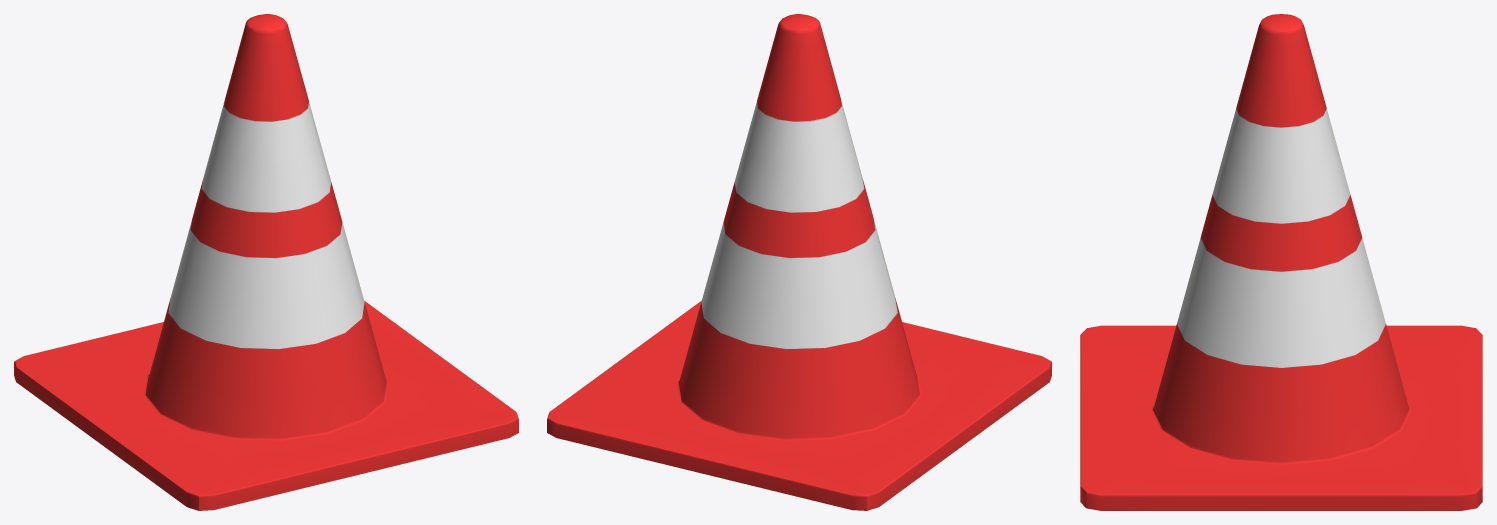
The picture shows the model from 3 angles, left to right: view 1: azimuth 30°, elevation 25°; view 2: azimuth 150°, elevation 25°; view 3: azimuth 270°, elevation 25°; orthographic projection. The views are drawn at different scales.
Parts seen in each view (by area): view 1: pPlane1; view 2: pPlane1; view 3: pPlane1.
Part boxes in pixels (left/top/right/bottom): pPlane1: left=14, top=14, right=518, bottom=510; pPlane1: left=547, top=14, right=1051, bottom=510; pPlane1: left=1080, top=14, right=1482, bottom=510.
Bounding box in the file's own units: 0.0224 × 0.0249 × 0.0224.
1 material, 1 textured.
